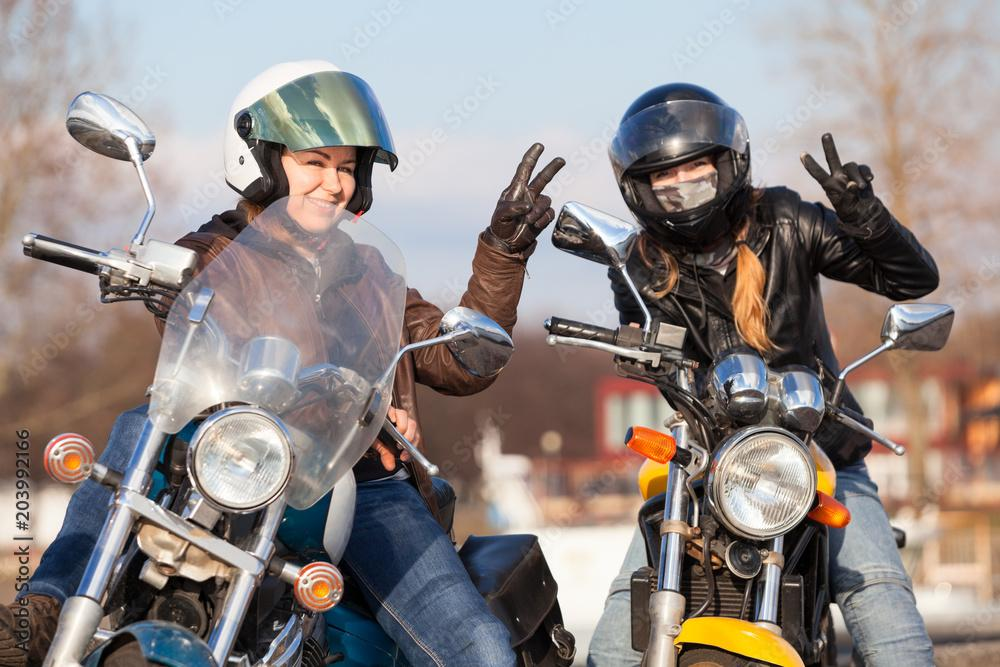helmet: (222, 58, 400, 253), (607, 81, 753, 249)
